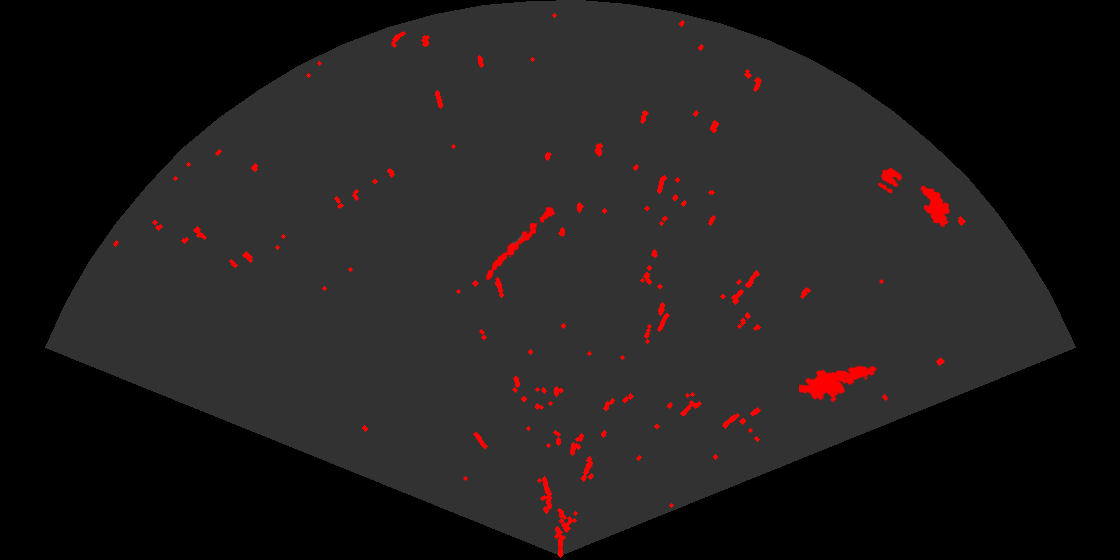AUV: (919, 184, 951, 228)
ball: (876, 166, 904, 195)
chain: (484, 205, 557, 282)
frogman: (799, 364, 878, 404)
